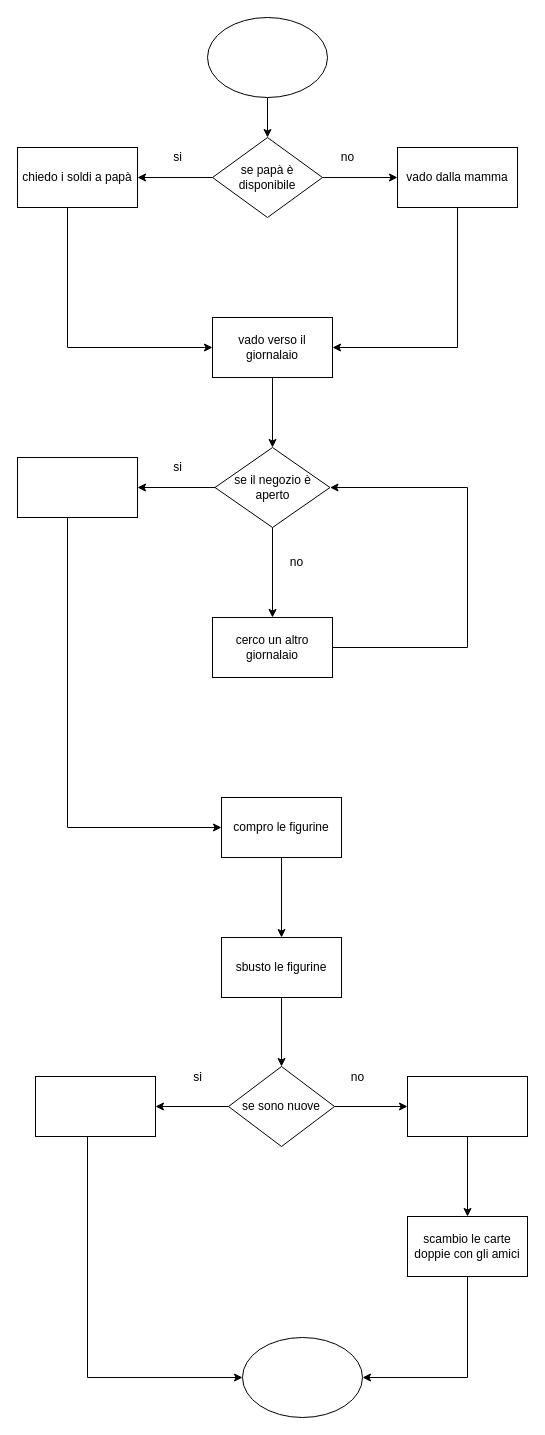
Some shapes in this 545 by 1435 pixel diagram are drawn without their labels. The centre of each missing label's shape, as x and y in pixels:
entro nel negozio: point 77,487
FINE: point 302,1377
INIZIO: point 267,57
le attacco nell'album: point 95,1106
le metto in un mazzo a parte: point 467,1106
